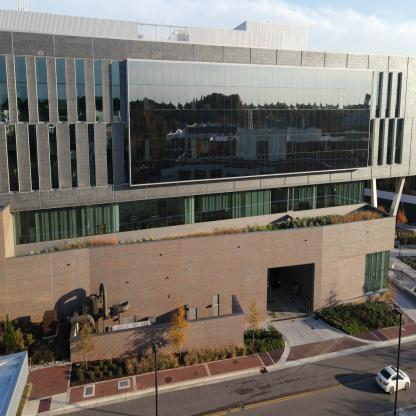Fitts- Woolard: (0, 6, 415, 394)
